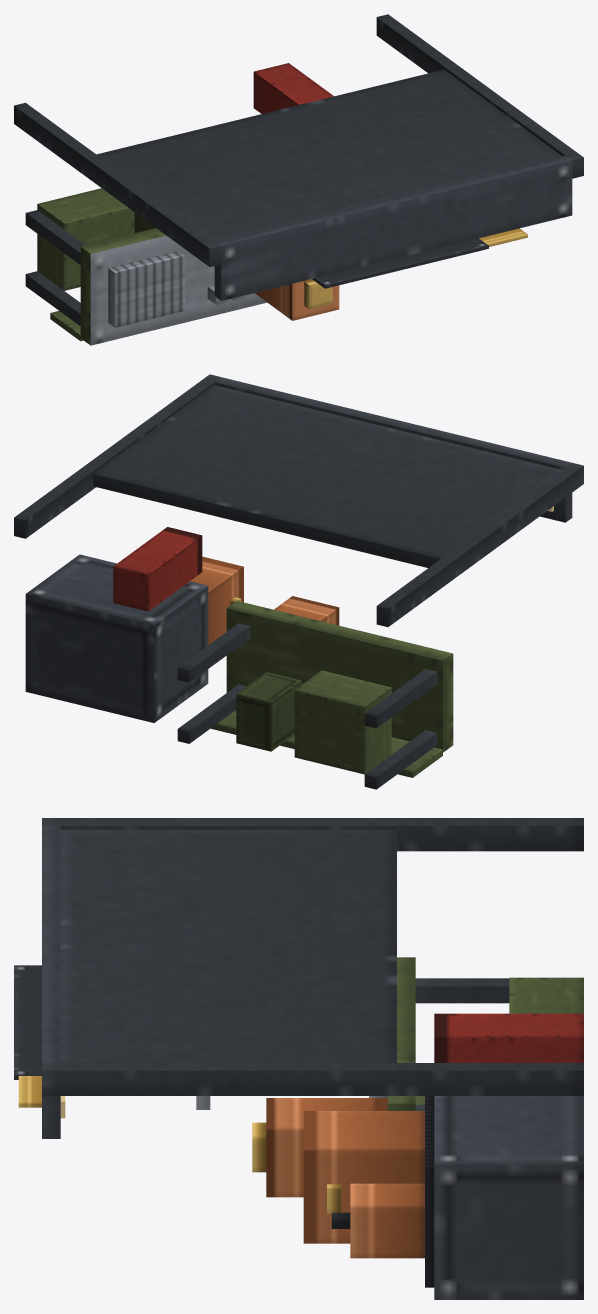
The model's file is mess_hall_mk2.obj.
The picture shows the model from 3 angles, top to bottom: view 1: azimuth 30°, elevation 25°; view 2: azimuth 150°, elevation 25°; view 3: azimuth 270°, elevation 25°; orthographic projection. The views are drawn at different scales.
Parts seen in each view (by area): view 1: mess_hall_mk2_Pegboard, mess_hall_mk2_Canopy, mess_hall_mk2_Counter_top, mess_hall_mk2_Wall_post_0, mess_hall_mk2_Ration_crate, mess_hall_mk2_Tray_stack, mess_hall_mk2_Wall_post_1, mess_hall_mk2_Gas_bottle, mess_hall_mk2_Leg, mess_hall_mk2_Sign, mess_hall_mk2_Coffee_urn, mess_hall_mk2_Urn_lid (+2 smaller); view 2: mess_hall_mk2_Pegboard, mess_hall_mk2_Stove, mess_hall_mk2_Counter_top, mess_hall_mk2_Ration_crate, mess_hall_mk2_Leg, mess_hall_mk2_Wall_post_0, mess_hall_mk2_Gas_bottle, mess_hall_mk2_Wall_post_1, mess_hall_mk2_Canopy, mess_hall_mk2_Jerrycan, mess_hall_mk2_Stockpot, mess_hall_mk2_Skirt (+1 smaller); view 3: mess_hall_mk2_Pegboard, mess_hall_mk2_Stove, mess_hall_mk2_Wall_post_1, mess_hall_mk2_Stockpot, mess_hall_mk2_Wall_post_0, mess_hall_mk2_Gas_bottle, mess_hall_mk2_Kettle, mess_hall_mk2_Canopy, mess_hall_mk2_Coffee_urn, mess_hall_mk2_Sign, mess_hall_mk2_Ration_crate, mess_hall_mk2_Leg (+4 smaller).
Part boxes in pixels (x1,y1,x2,y2): mess_hall_mk2_Pegboard: (96, 69, 561, 240); mess_hall_mk2_Canopy: (214, 155, 572, 300); mess_hall_mk2_Counter_top: (80, 228, 266, 345); mess_hall_mk2_Wall_post_0: (14, 102, 221, 266); mess_hall_mk2_Ration_crate: (37, 188, 134, 290); mess_hall_mk2_Tray_stack: (108, 251, 185, 327); mess_hall_mk2_Wall_post_1: (376, 14, 583, 178); mess_hall_mk2_Gas_bottle: (253, 63, 333, 113); mess_hall_mk2_Leg: (25, 210, 84, 325); mess_hall_mk2_Sign: (312, 238, 488, 288); mess_hall_mk2_Coffee_urn: (254, 279, 339, 320); mess_hall_mk2_Urn_lid: (304, 279, 332, 309); mess_hall_mk2_Pegboard: (93, 385, 561, 567); mess_hall_mk2_Stove: (25, 554, 208, 722); mess_hall_mk2_Counter_top: (226, 601, 453, 752); mess_hall_mk2_Ration_crate: (294, 670, 391, 774); mess_hall_mk2_Leg: (177, 623, 437, 789); mess_hall_mk2_Wall_post_0: (376, 463, 583, 626); mess_hall_mk2_Gas_bottle: (113, 527, 202, 611); mess_hall_mk2_Wall_post_1: (14, 374, 220, 538); mess_hall_mk2_Canopy: (214, 377, 572, 522); mess_hall_mk2_Jerrycan: (236, 672, 301, 751); mess_hall_mk2_Stockpot: (190, 556, 243, 644); mess_hall_mk2_Skirt: (211, 710, 442, 777); mess_hall_mk2_Pegboard: (60, 830, 396, 1062); mess_hall_mk2_Stove: (434, 1096, 583, 1299); mess_hall_mk2_Wall_post_1: (42, 1063, 583, 1095); mess_hall_mk2_Stockpot: (303, 1111, 424, 1243); mess_hall_mk2_Wall_post_0: (42, 818, 583, 851); mess_hall_mk2_Gas_bottle: (434, 1013, 583, 1062); mess_hall_mk2_Kettle: (350, 1183, 424, 1258); mess_hall_mk2_Canopy: (42, 826, 60, 1138); mess_hall_mk2_Coffee_urn: (266, 1098, 387, 1197); mess_hall_mk2_Sign: (14, 965, 41, 1079); mess_hall_mk2_Ration_crate: (509, 977, 583, 1013); mess_hall_mk2_Leg: (415, 978, 509, 1110).
Size of the model in its own units: 2 by 0.9844 by 1.91.
